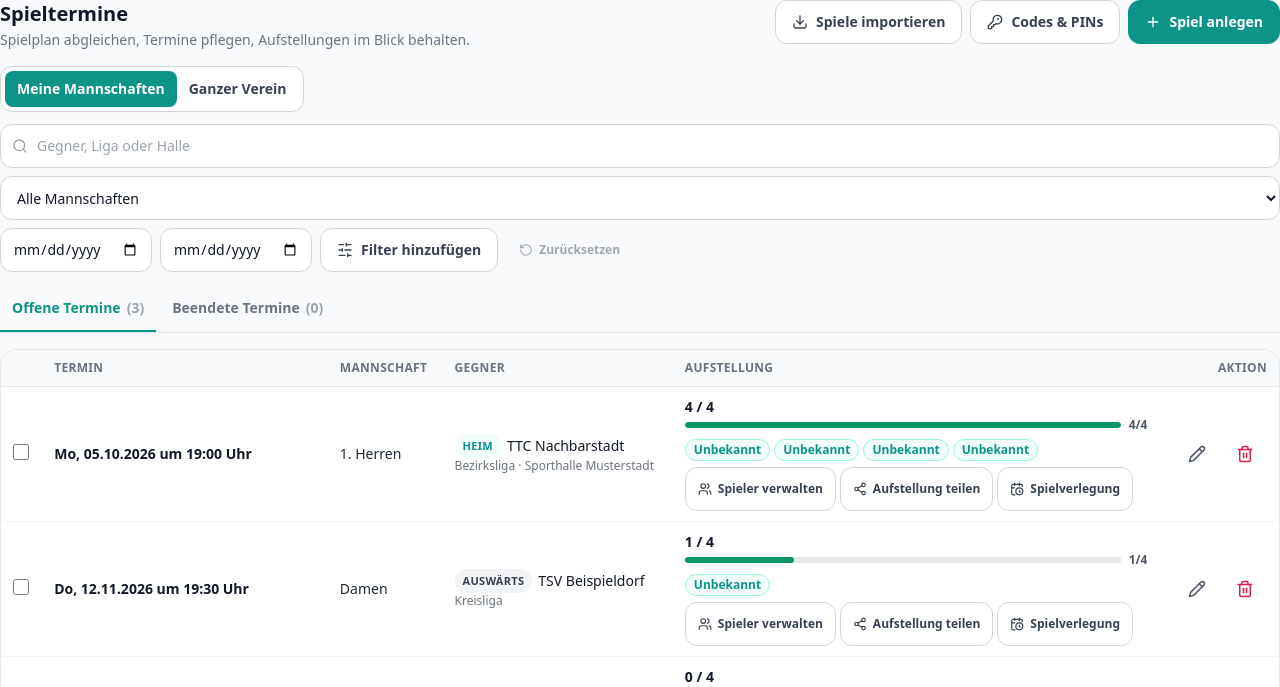
Test: GamesPage › prüft die Kalenderadresse, bevor der Import läuft
Click the button "Spiele importieren" at {"x": 869, "y": 22}, box 775,0 -> 962,44
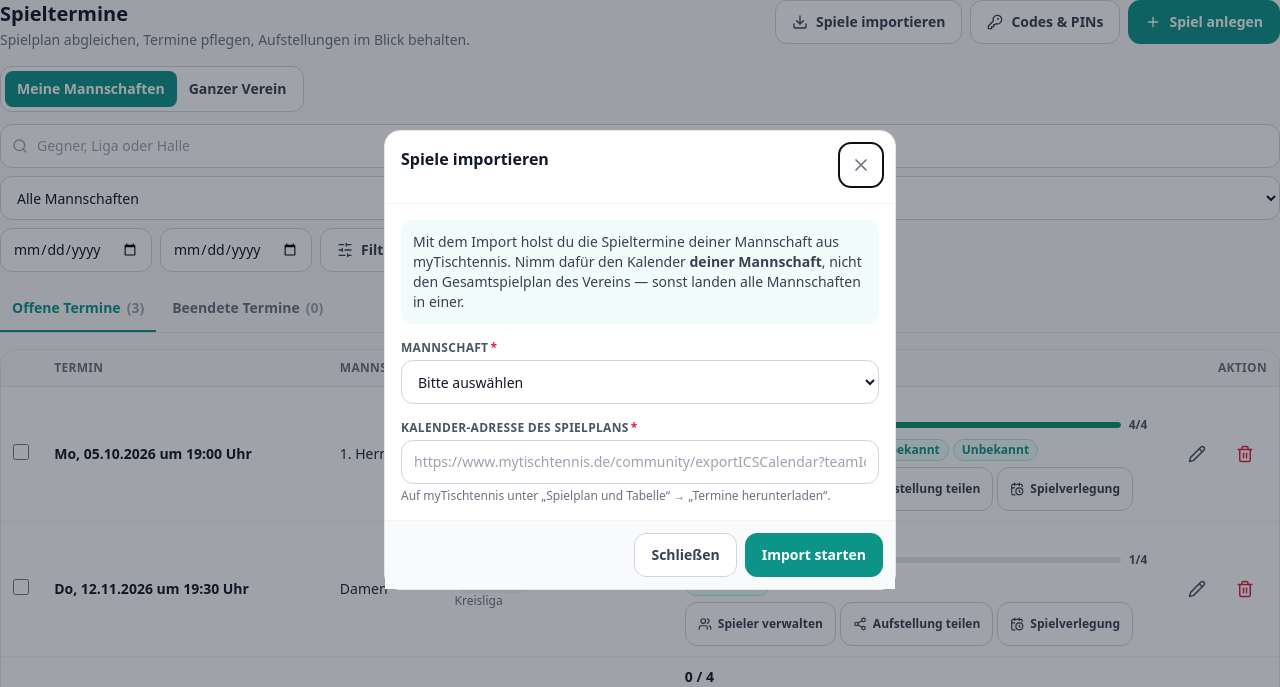
Select "1. Herren" in the dropdown labelled "Mannschaft*" at {"x": 640, "y": 382}, box 401,360 -> 879,404
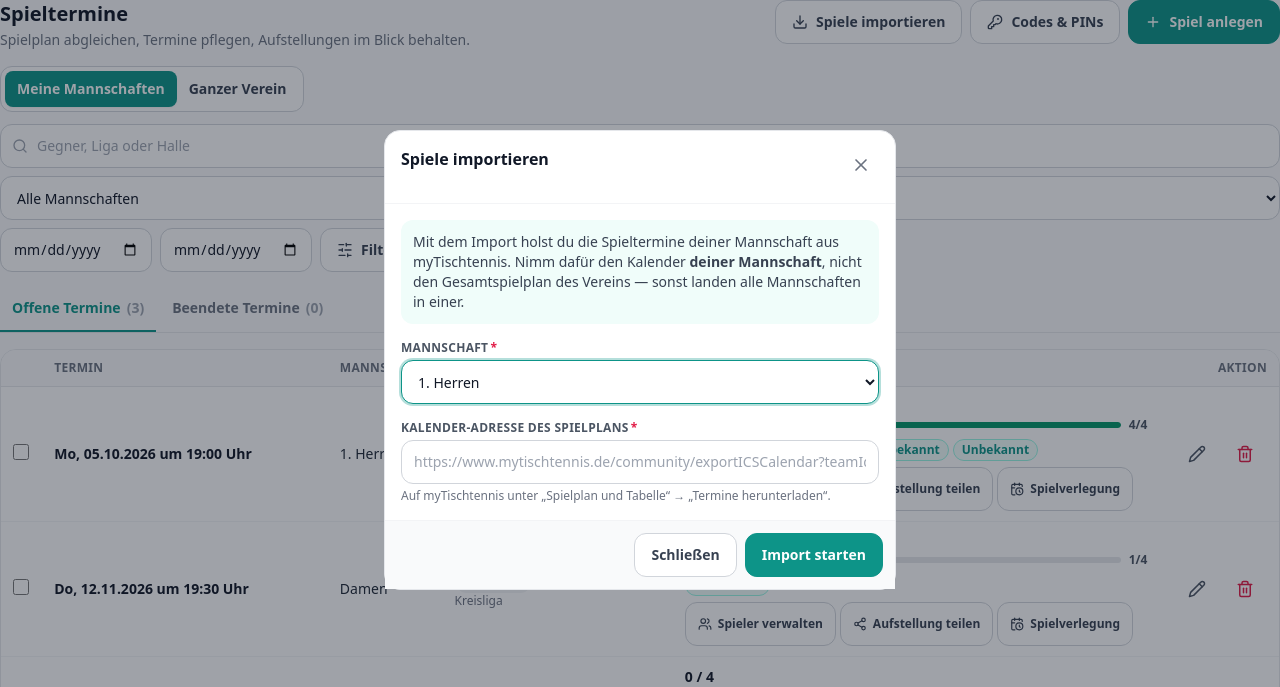
Type "https://example.org/kalender.ics" into the field labelled "Kalender-Adresse des Spielplans*" at {"x": 640, "y": 462}, box 401,440 -> 879,484
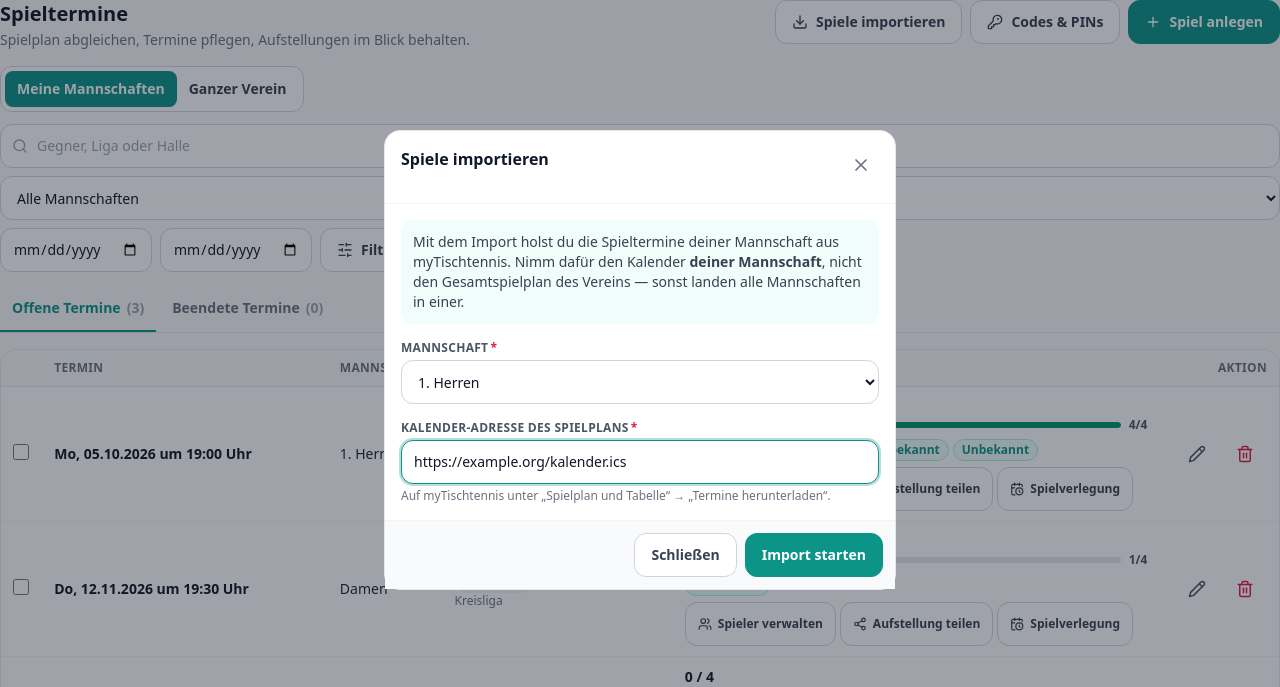
Click the button "Import starten" at {"x": 814, "y": 555}, box 745,533 -> 883,577
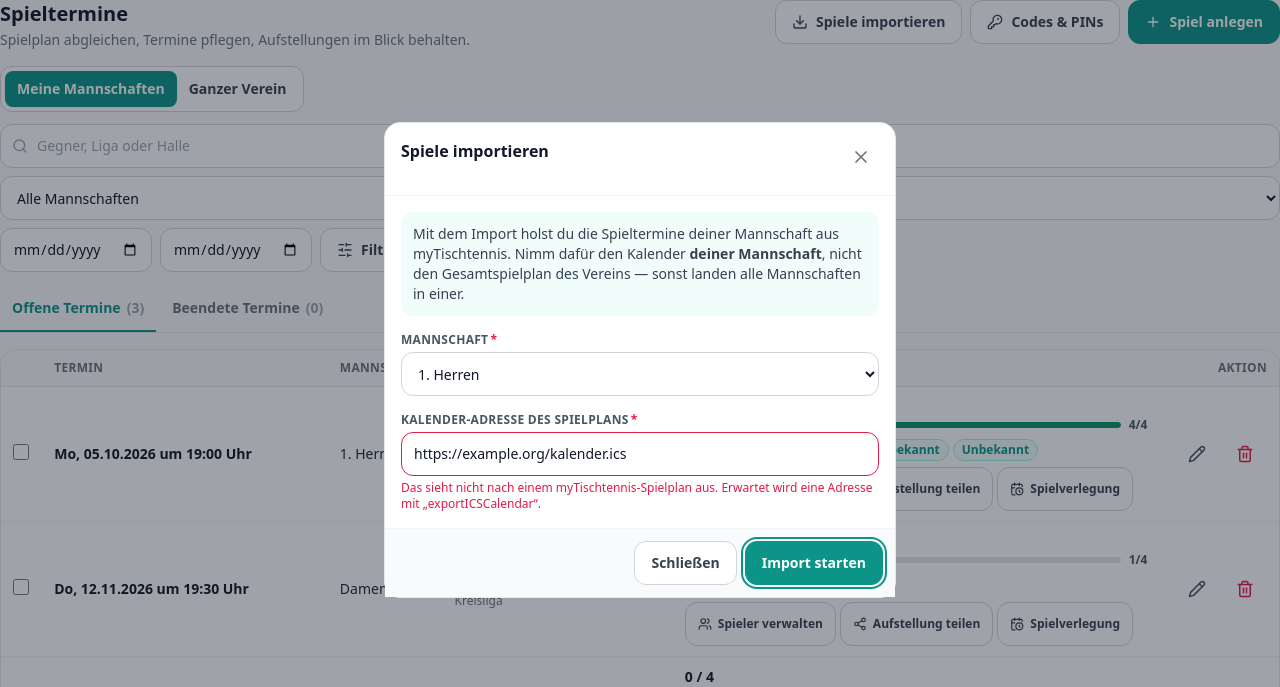
Expected: the text "exportICSCalendar" is shown, 401,479 -> 872,512
